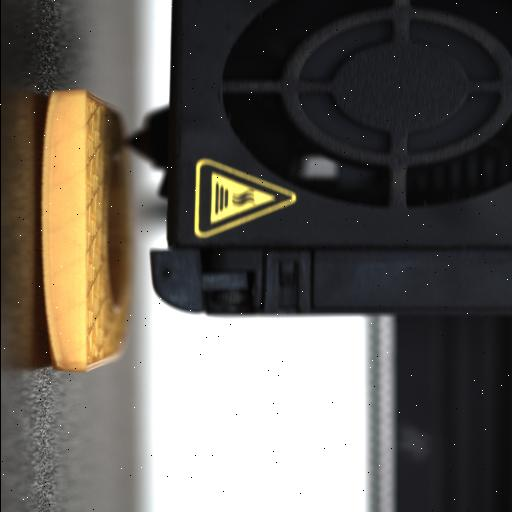warp: (34, 302, 66, 372), (38, 86, 60, 134)
